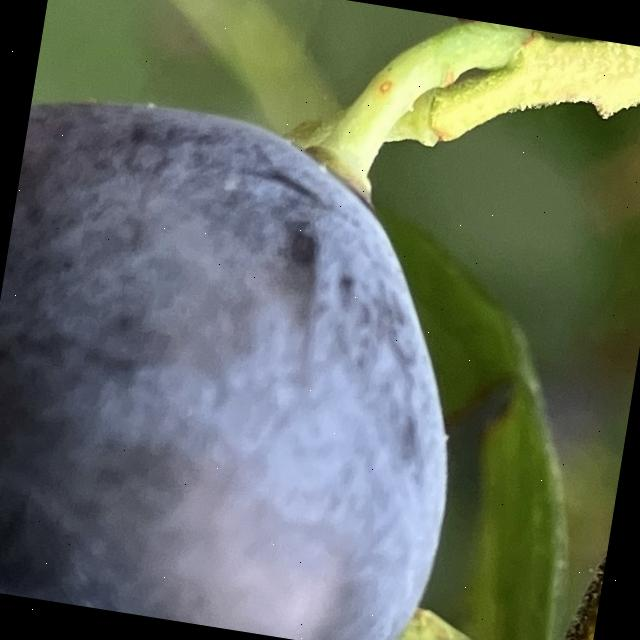Blueberries: (0, 78, 508, 640)
